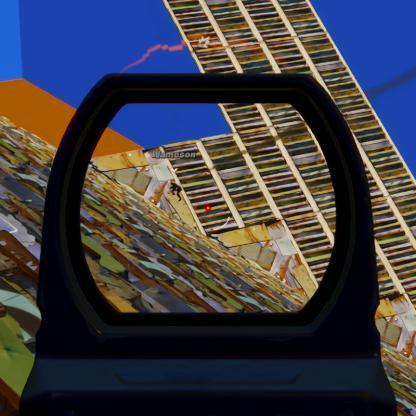person: (169, 181, 181, 199)
